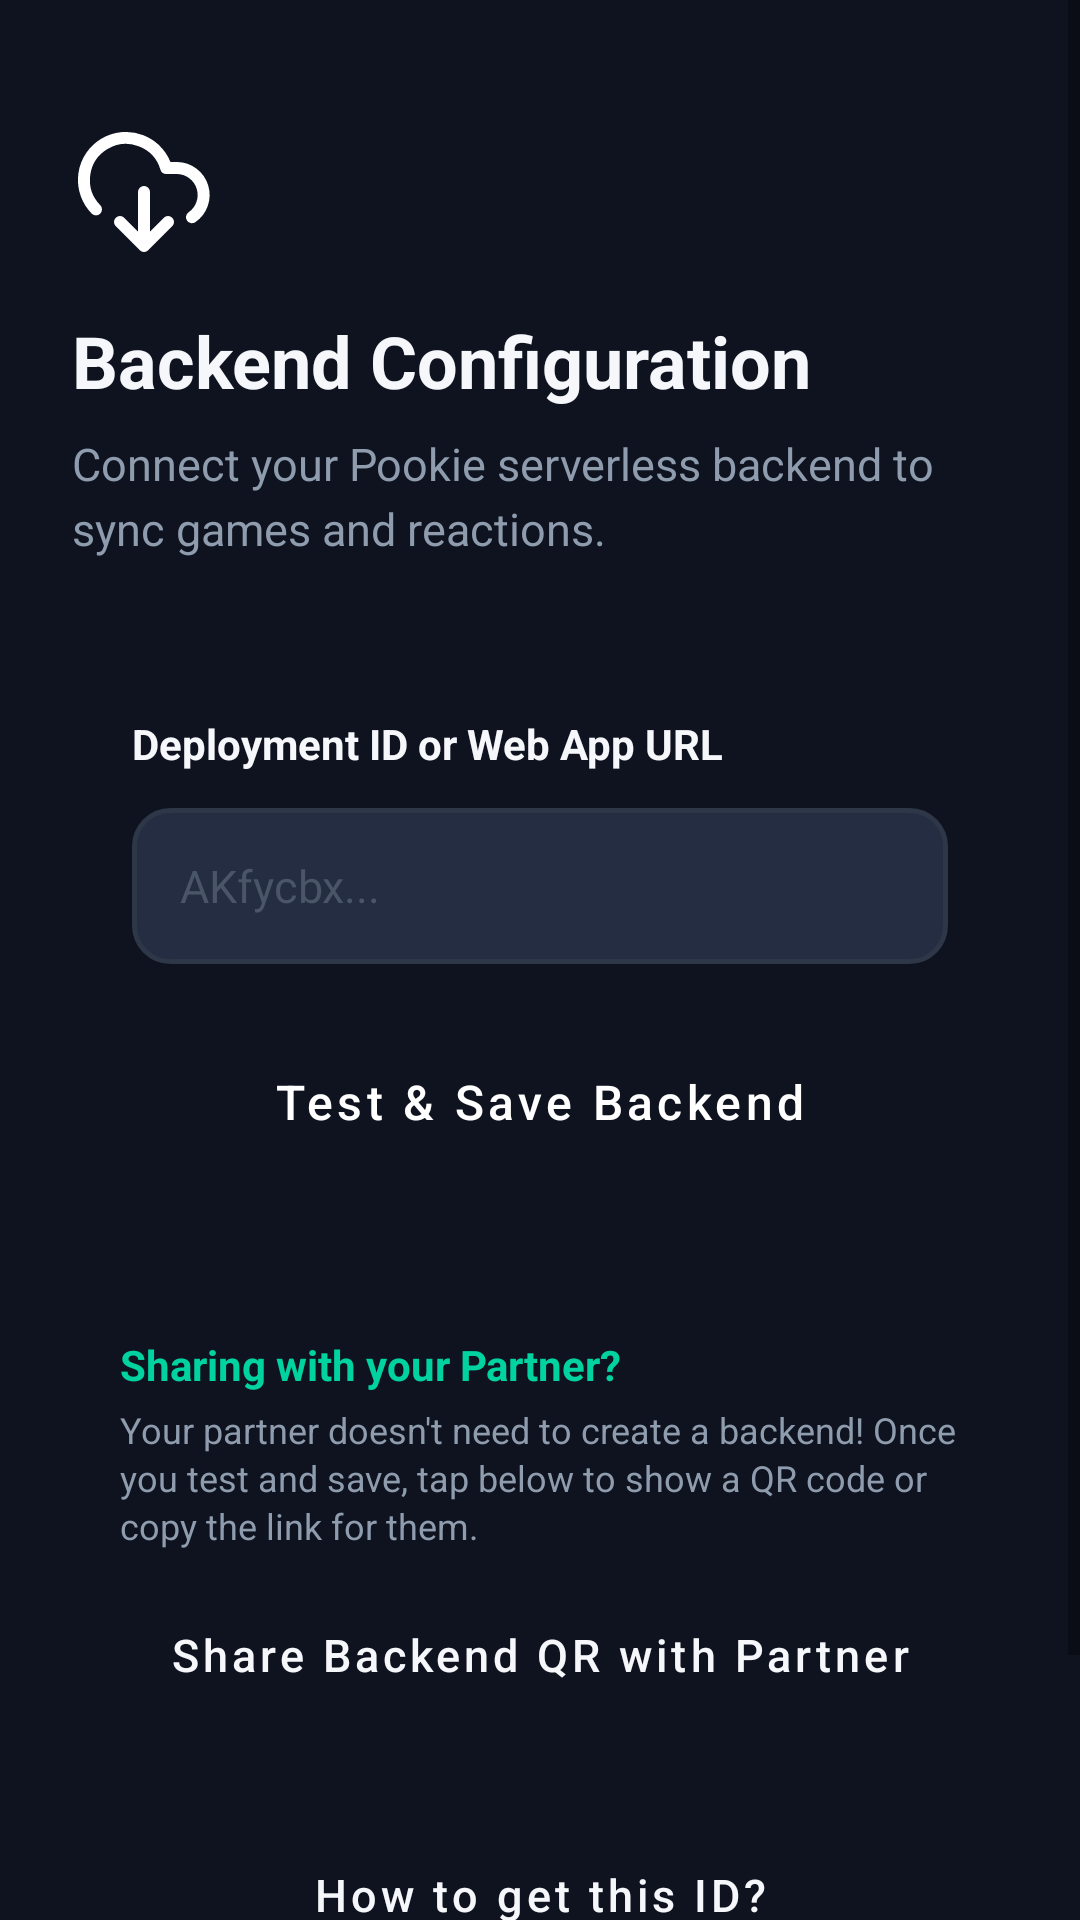

Where icons sit on this 1080 x 1920 app screen, as (x1, y1, x2, y2):
ota update: (78, 132, 210, 252)
